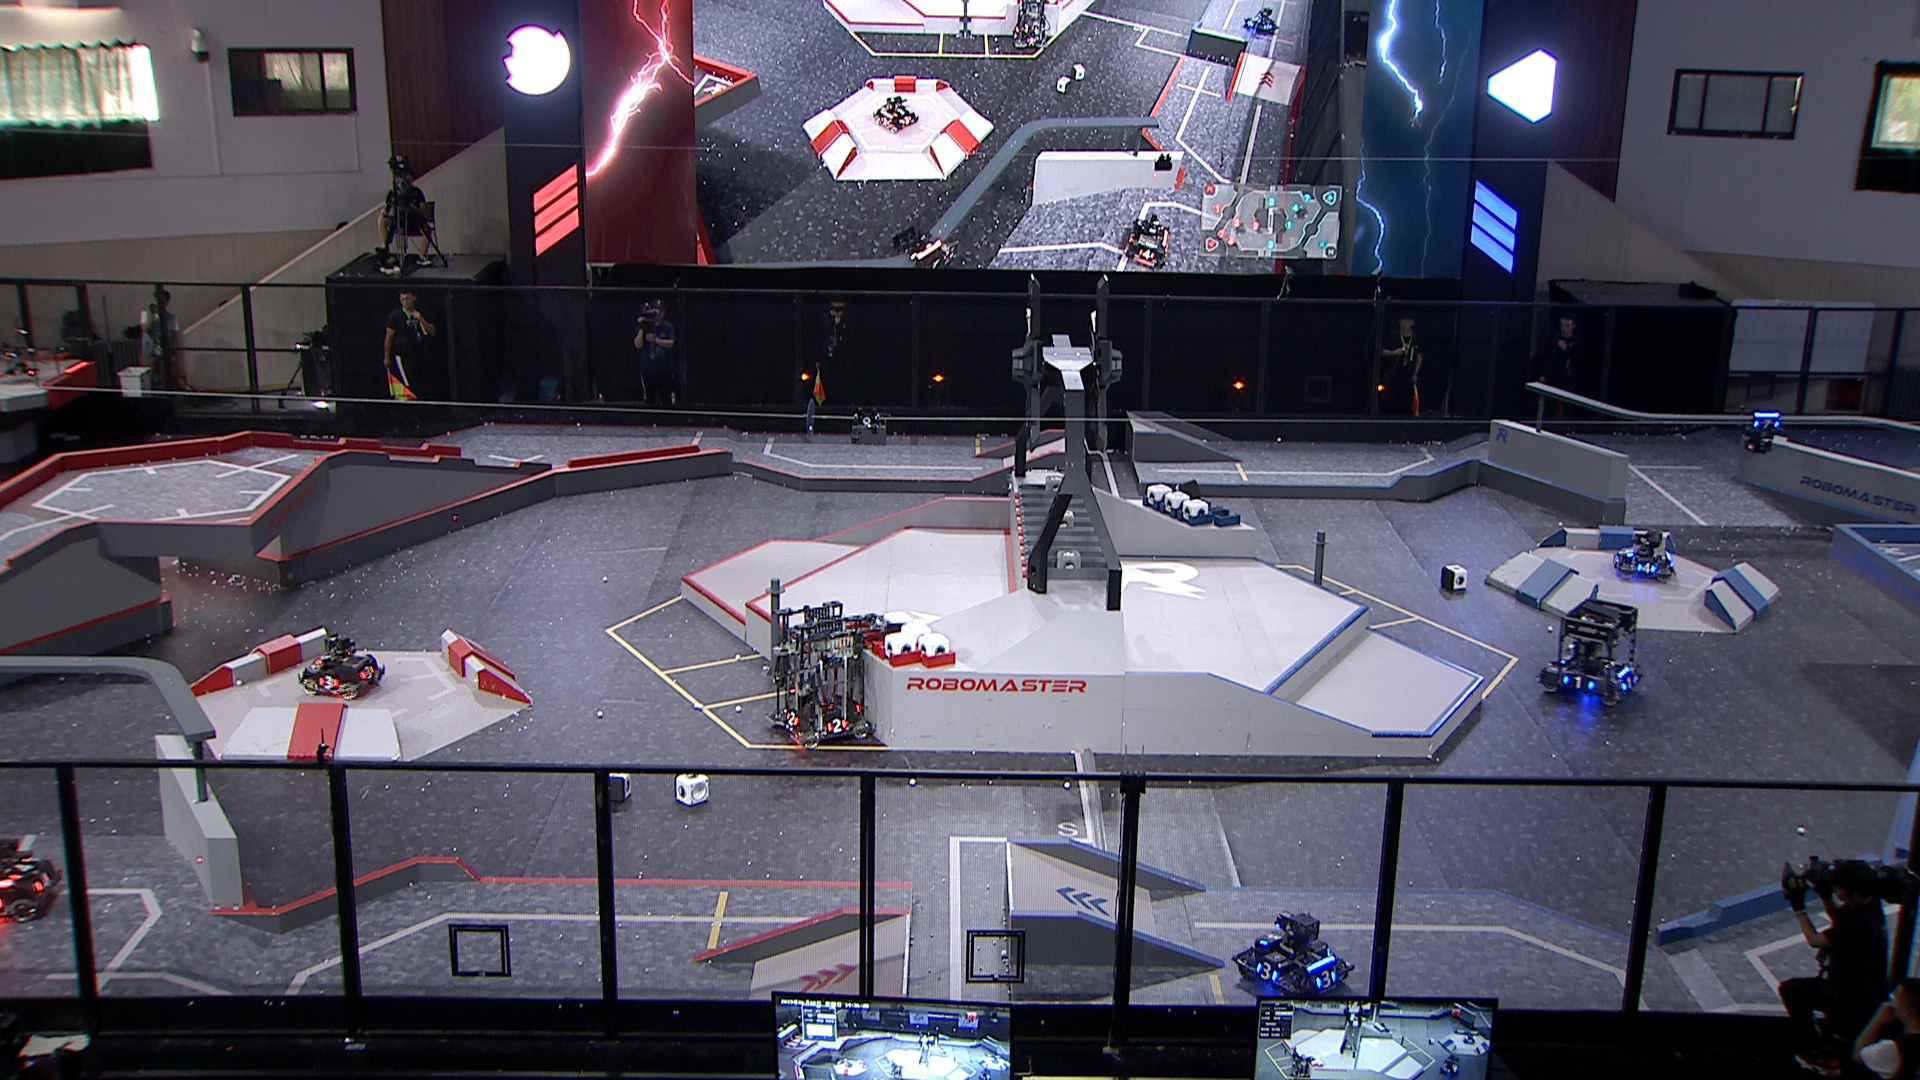armor: (11, 855, 34, 880), (1250, 960, 1276, 978), (36, 872, 58, 891), (1561, 675, 1594, 688), (1316, 969, 1338, 986), (825, 717, 849, 733), (1633, 560, 1658, 575), (315, 674, 338, 690), (1261, 928, 1283, 943), (1621, 675, 1636, 692), (1754, 417, 1775, 429), (785, 712, 800, 727), (316, 650, 328, 666), (361, 665, 375, 678), (1622, 547, 1636, 556)
car: (764, 603, 874, 746), (1538, 595, 1647, 712), (1233, 909, 1352, 996), (299, 636, 392, 699), (1613, 526, 1675, 589)
ignore: (1116, 216, 1174, 268), (887, 224, 955, 268), (870, 95, 916, 128), (1244, 8, 1280, 40), (1286, 1046, 1313, 1080), (1437, 1055, 1461, 1077), (973, 1068, 998, 1080), (887, 1062, 905, 1079), (1462, 1030, 1480, 1044)
watcher: (1735, 400, 1788, 458)
